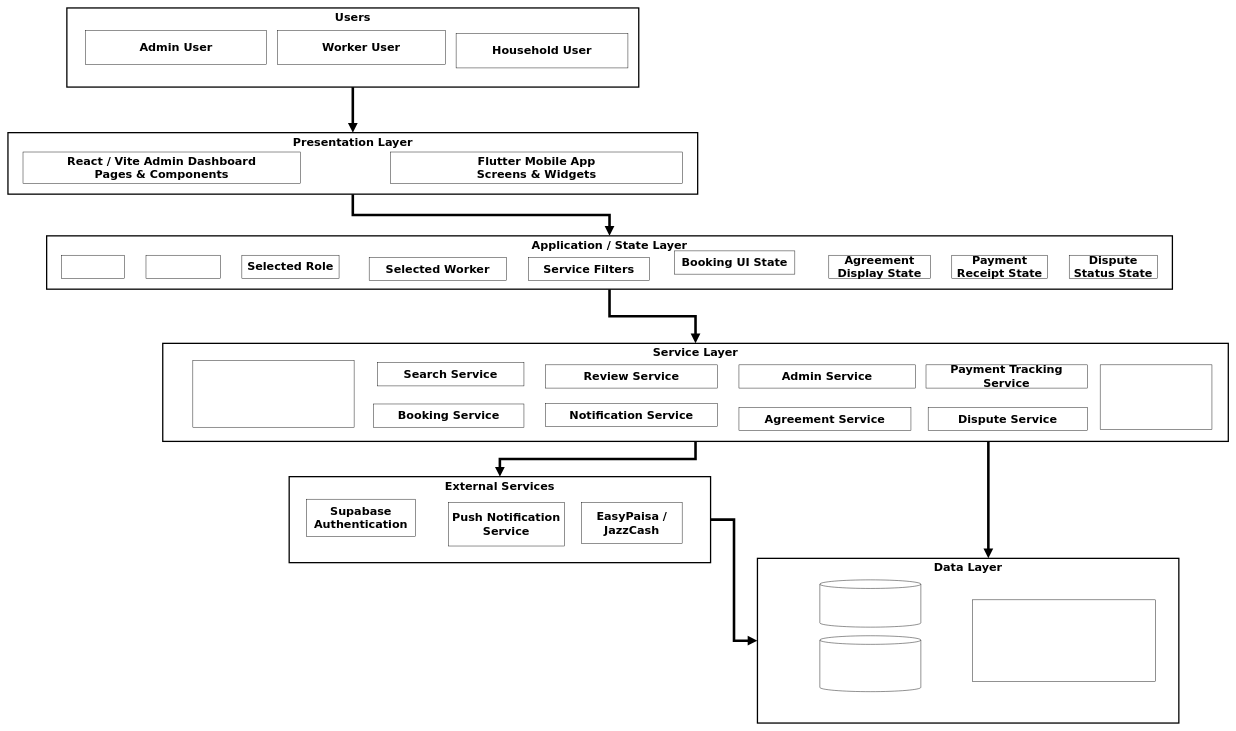
Some shapes in this 1236 by 731 pixel diagram are drawn without their labels. Each missing label, with the centre of its shape:
"Authentication Service" belongs at point (273, 393).
"Form Validation" belongs at point (183, 266).
"Profile Service" belongs at point (1156, 396).
"Screen Flow" belongs at point (92, 266).
"Storage Buckets" belongs at point (870, 663).
"Supabase Client Libraries" belongs at point (1064, 640).
"Supabase PostgreSQL" belongs at point (870, 603).
